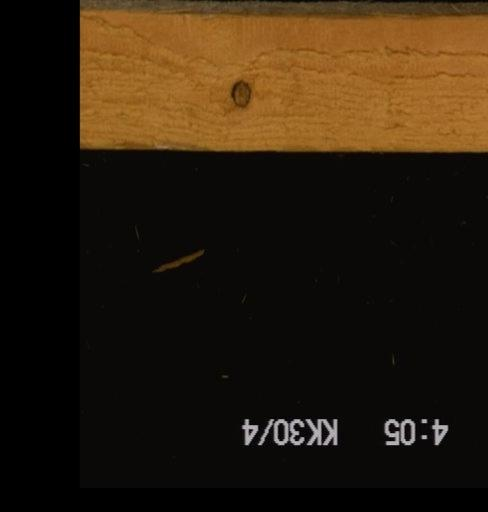dry_knot: (228, 76, 252, 111)
